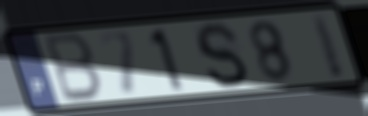1: (146, 26, 187, 94)
7: (96, 28, 139, 98)
8: (248, 18, 296, 85)
B: (42, 31, 105, 105)
I: (308, 11, 348, 82)
S: (193, 20, 251, 90)
